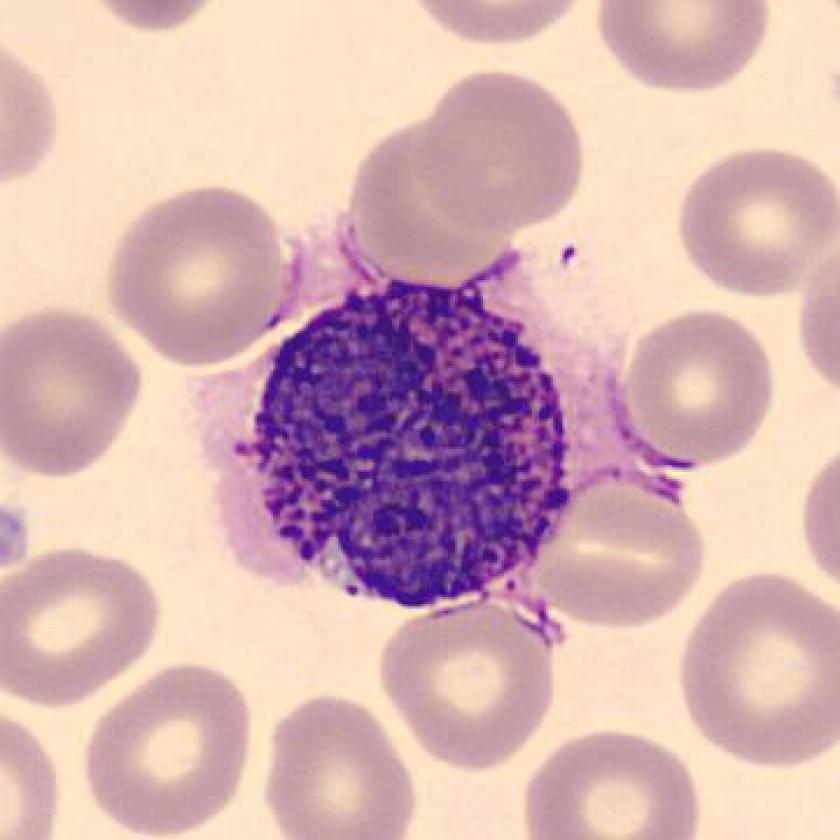basophil: (242, 272, 578, 621)
